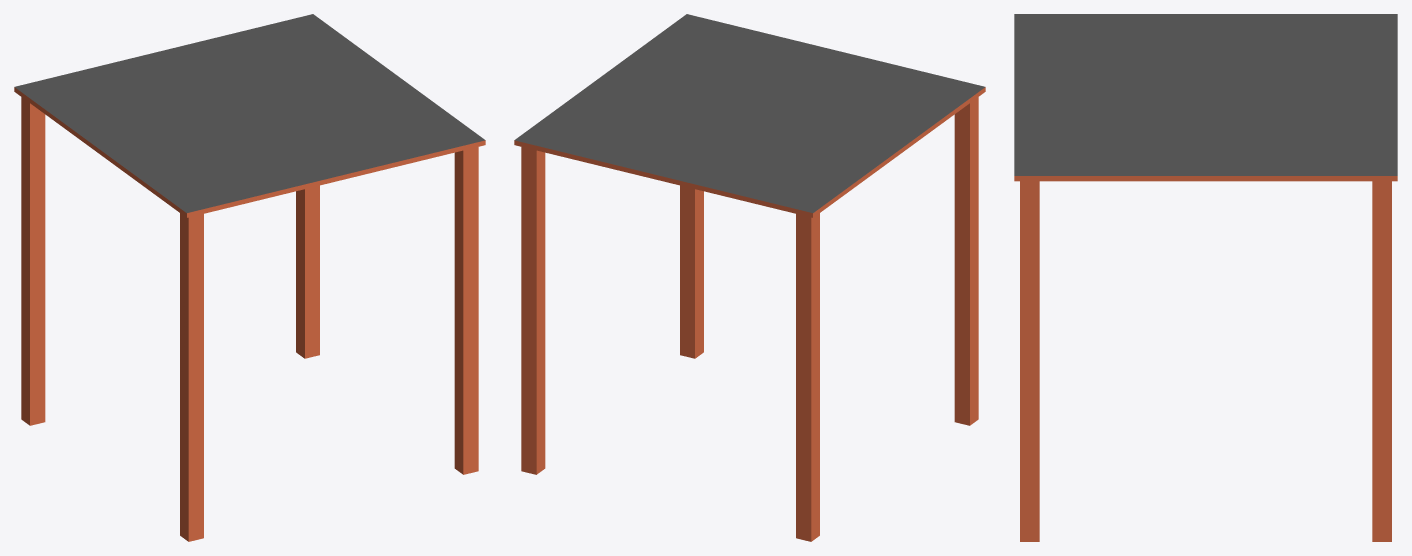
Rendered from Prop_Industrial_Platform_Walkway_Wide_Base_01.FBX.
The picture shows the model from 3 angles, left to right: view 1: azimuth 30°, elevation 25°; view 2: azimuth 150°, elevation 25°; view 3: azimuth 270°, elevation 25°; orthographic projection. The views are drawn at different scales.
Visible parts, largest first — view 1: Prop_Industrial_Platform_Walkway_Wide_Base_01; view 2: Prop_Industrial_Platform_Walkway_Wide_Base_01; view 3: Prop_Industrial_Platform_Walkway_Wide_Base_01.
Part boxes in pixels (box(x1,y1,x2,y2)): Prop_Industrial_Platform_Walkway_Wide_Base_01: box(14, 14, 485, 541); Prop_Industrial_Platform_Walkway_Wide_Base_01: box(514, 14, 985, 541); Prop_Industrial_Platform_Walkway_Wide_Base_01: box(1014, 14, 1397, 541).
Size of the model in its own units: 3960 by 4200 by 3960.
